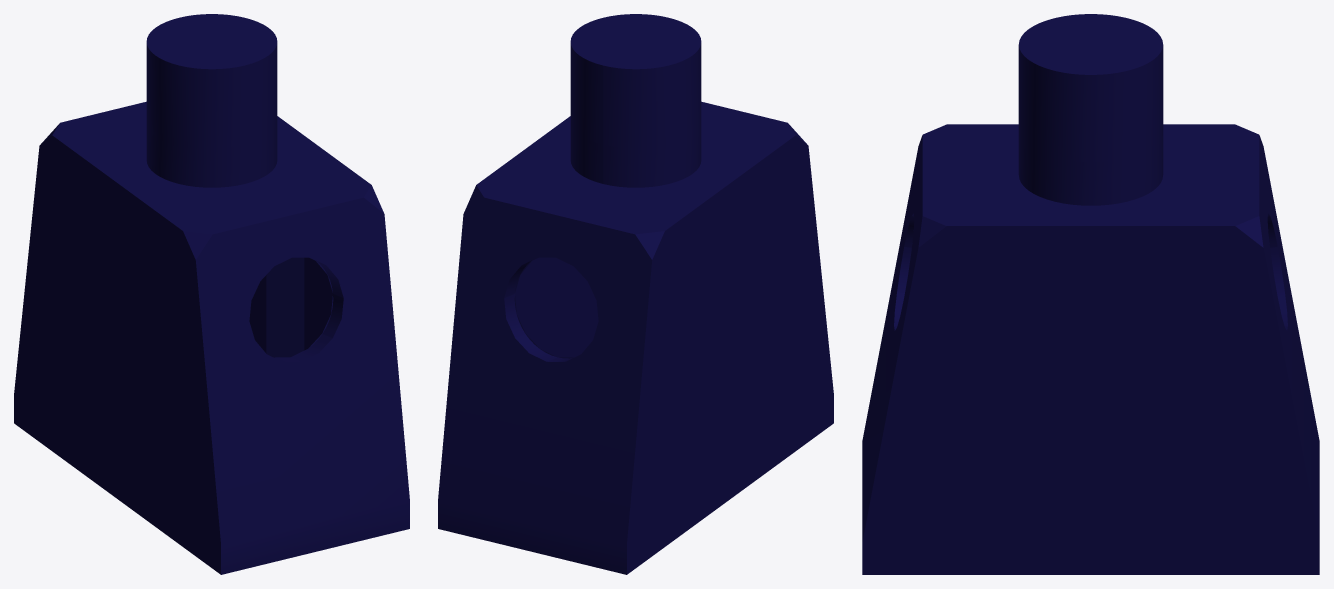
The model's file is torso.obj.
3 renders of one model, left to right at view 1: azimuth 30°, elevation 25°; view 2: azimuth 150°, elevation 25°; view 3: azimuth 270°, elevation 25°, orthographic. The views are drawn at different scales.
Parts seen in each view (by area): view 1: torso; view 2: torso; view 3: torso.
Boxes of the visible parts, left/top/right/bottom form: torso: left=14, top=14, right=409, bottom=574; torso: left=438, top=14, right=833, bottom=574; torso: left=862, top=14, right=1319, bottom=574.
Size of the model in its own units: 20 by 44 by 38.
